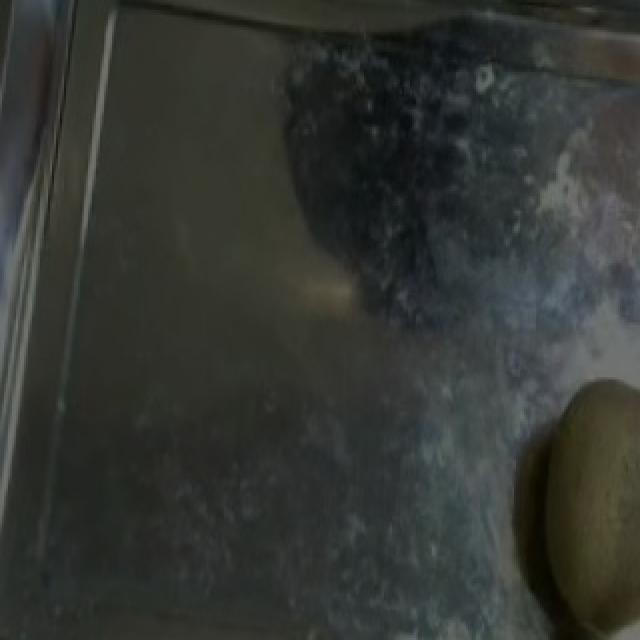Fruit: (478, 364, 640, 640)
